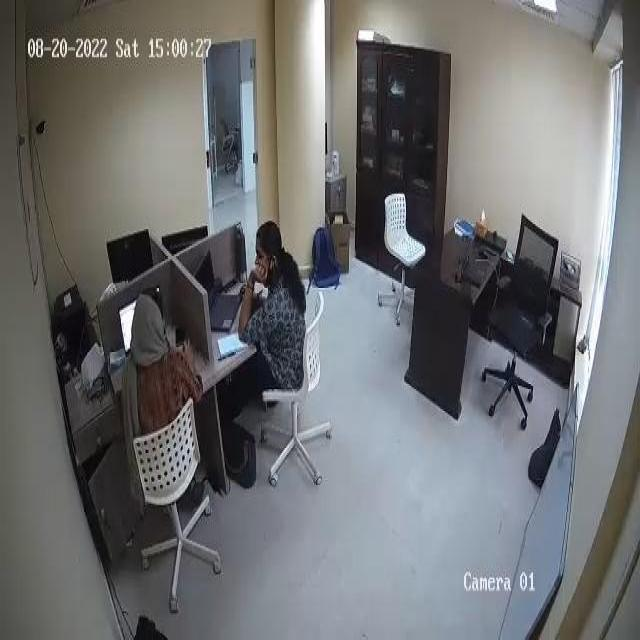bare_hand: (172, 330, 205, 379), (246, 261, 275, 293)
